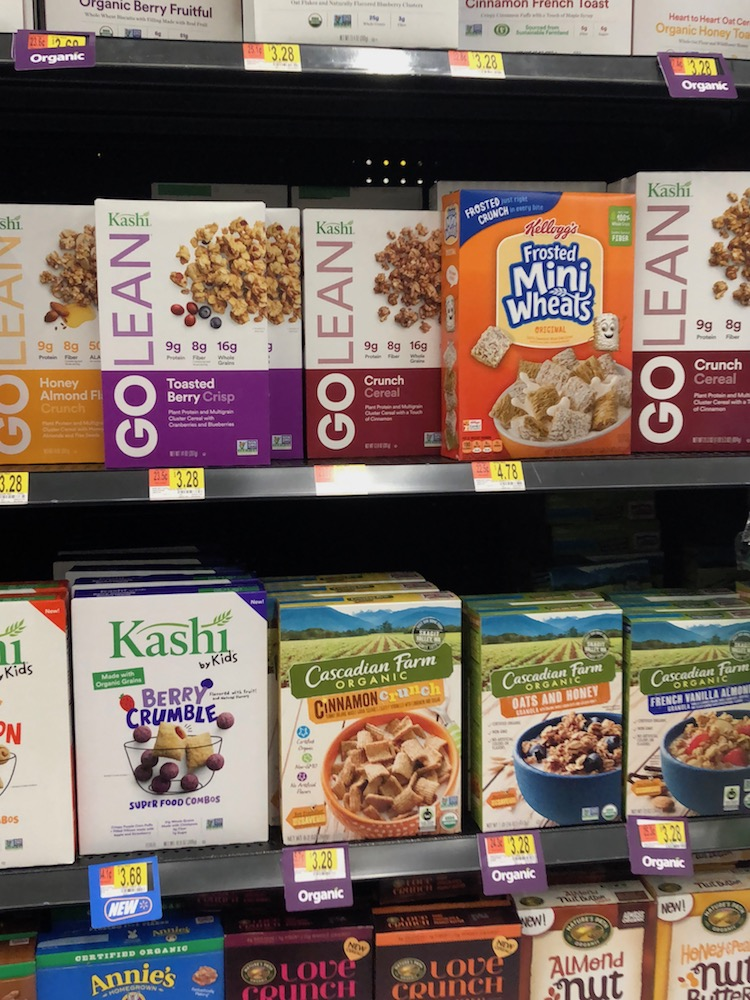Frosted Mini Original -9295869: (446, 188, 630, 458)
